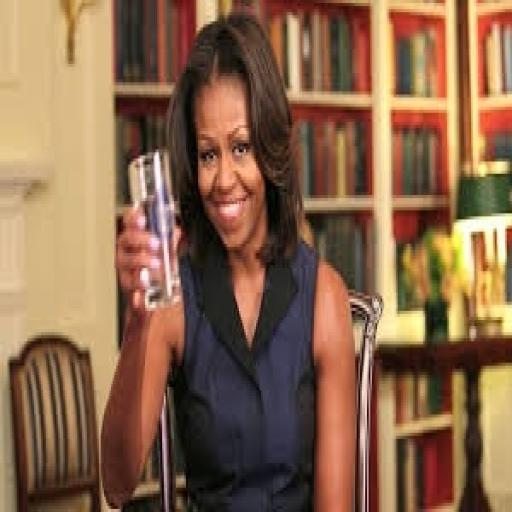drinking: (126, 146, 183, 311)
